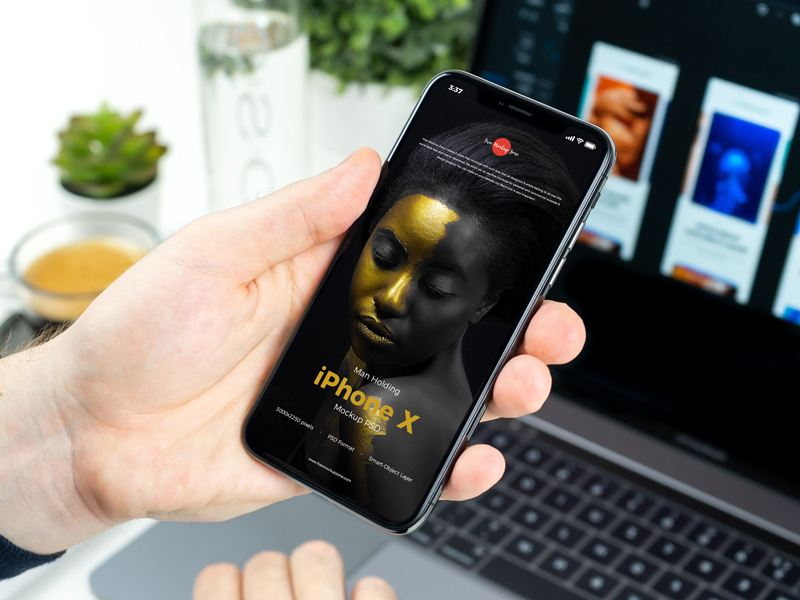phone: (75, 53, 617, 550)
